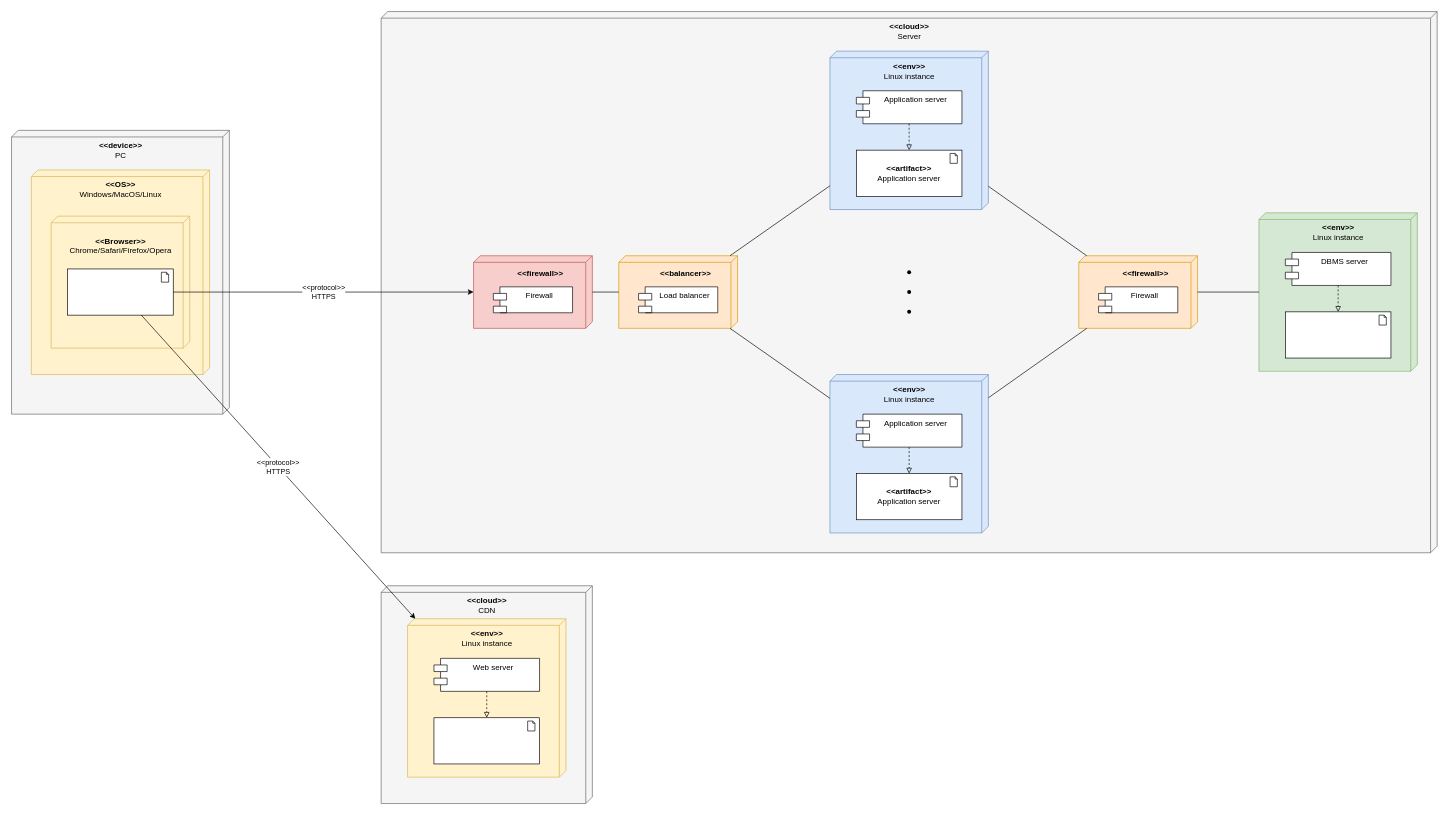
Image size: 1449x815. Some labels were removed from this diagram. The centre of each missing label's shape, as x and y in pixels:
"<<artifact>> DBMS" goes at pixel 1338 334.
"<<artifact>> Static web server" goes at pixel 486 740.
"<<artifact>> WebApp" goes at pixel 120 291.
